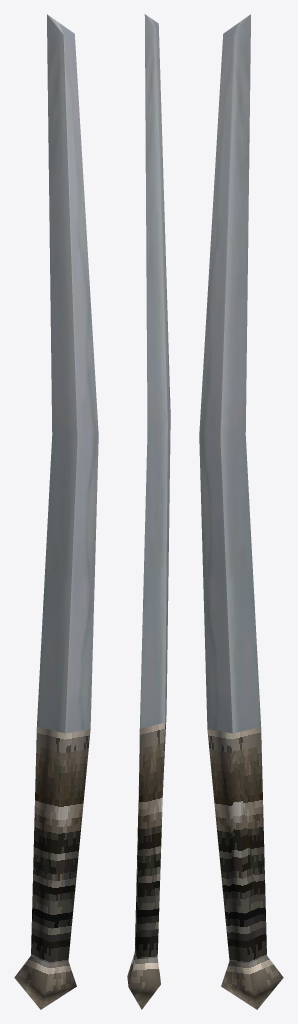
The model's file is wp_mle_sword_s02_l1.fbx.
3 renders of one model, left to right at view 1: azimuth 90°, elevation 25°; view 2: azimuth 150°, elevation 25°; view 3: azimuth 270°, elevation 25°, orthographic.
Visible parts, largest first — view 1: mesh_node; view 2: mesh_node; view 3: mesh_node.
Boxes of the visible parts, x1=… form: mesh_node: x1=14, y1=14, x2=98, y2=1009; mesh_node: x1=127, y1=14, x2=170, y2=1009; mesh_node: x1=199, y1=14, x2=283, y2=1009.
Size of the model in its own units: 0.0264 by 0.7415 by 0.057.
